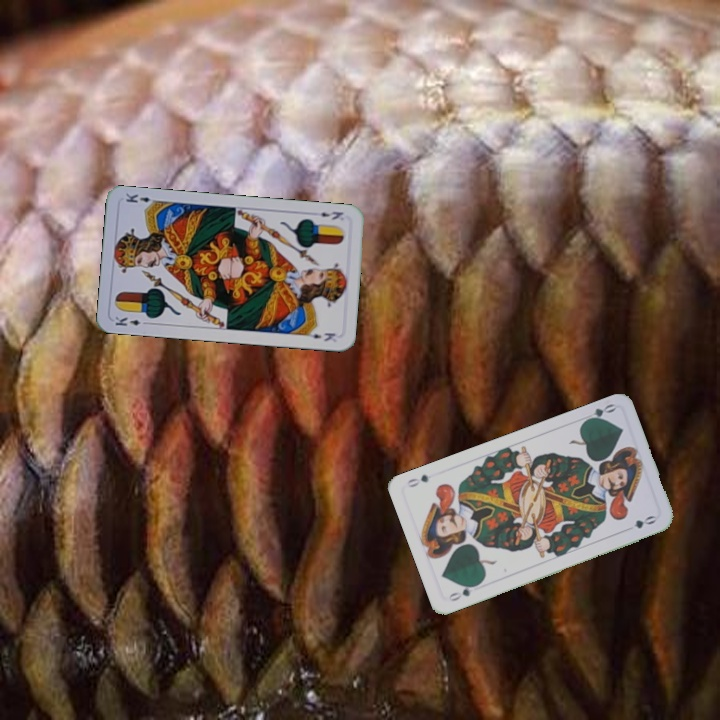EK: (111, 313, 151, 329), (317, 207, 346, 222)
GO: (579, 399, 618, 425), (445, 580, 482, 604)
